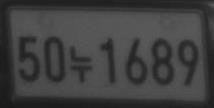0: (44, 37, 66, 81)
1: (98, 38, 119, 84)
5: (17, 36, 40, 81)
6: (125, 38, 148, 84)
8: (151, 38, 174, 86)
9: (177, 39, 199, 86)
누: (69, 45, 92, 82)
